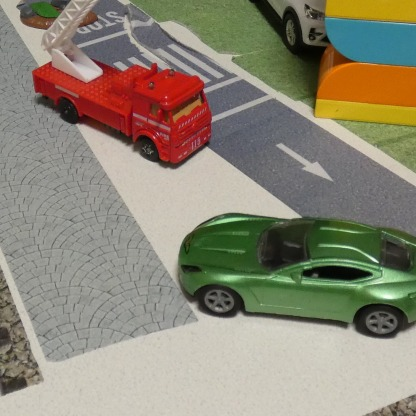car: (175, 203, 416, 345), (28, 47, 213, 167)
